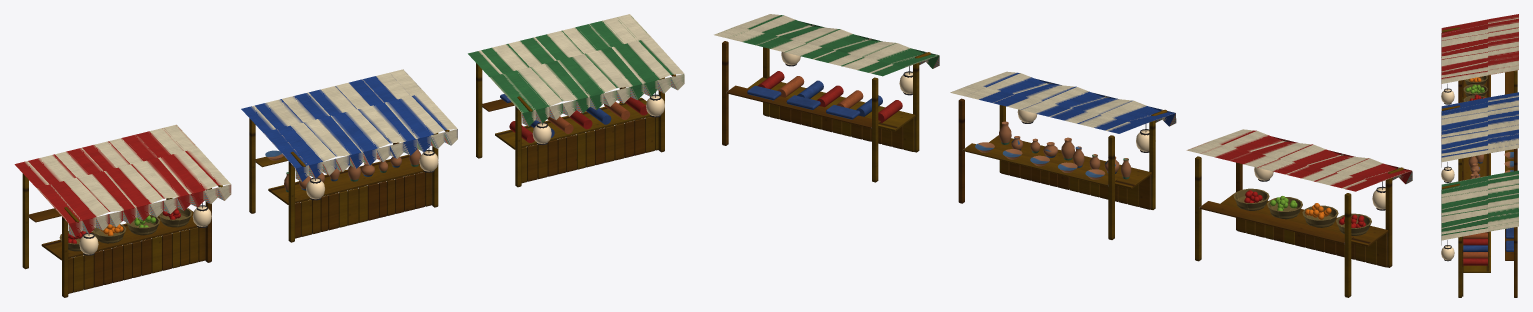
The model's file is BancarellaMercato.fbx.
3 renders of one model, left to right at view 1: azimuth 30°, elevation 25°; view 2: azimuth 150°, elevation 25°; view 3: azimuth 270°, elevation 25°, orthographic. The views are drawn at different scales.
Parts seen in each view (by area): view 1: Bancarella3_Tenda, Bancarella2_Tenda, Bancarella1_Tenda, Bancarella2_Legno, Bancarella3_Legno, Bancarella1_Legno, Bancarella1_Ceste, Bancarella3_TelaRossa, Bancarella3_Lanterne, Bancarella1_Lanterne, Bancarella2_Lanterne, Bancarella2_Ceramica (+2 smaller); view 2: Bancarella1_Legno, Bancarella2_Legno, Bancarella3_Legno, Bancarella1_Tenda, Bancarella3_Tenda, Bancarella2_Tenda, Bancarella1_Ceste, Bancarella2_Ceramica, Bancarella3_TelaBlu, Bancarella2_CeramicaVerde, Bancarella3_TelaRossa, Bancarella3_VelaGiunca (+1 smaller); view 3: Bancarella2_Tenda, Bancarella1_Tenda, Bancarella3_Tenda, Bancarella3_Legno, Bancarella2_Legno, Bancarella1_Legno, Bancarella3_TelaRossa, Bancarella3_TelaBlu, Bancarella1_Ceste, Bancarella3_VelaGiunca, Bancarella2_Ceramica, Bancarella2_Lanterne (+4 smaller).
Part boxes in pixels (x1,y1,x2,y2): Bancarella3_Tenda: [468, 14, 684, 126]; Bancarella2_Tenda: [241, 69, 457, 181]; Bancarella1_Tenda: [14, 124, 231, 237]; Bancarella2_Legno: [249, 118, 449, 242]; Bancarella3_Legno: [476, 63, 675, 187]; Bancarella1_Legno: [22, 173, 222, 297]; Bancarella1_Ceste: [59, 207, 192, 251]; Bancarella3_TelaRossa: [509, 97, 647, 142]; Bancarella3_Lanterne: [532, 95, 664, 143]; Bancarella1_Lanterne: [79, 206, 211, 254]; Bancarella2_Lanterne: [306, 151, 438, 199]; Bancarella2_Ceramica: [265, 150, 401, 190]; Bancarella1_Legno: [1195, 156, 1403, 297]; Bancarella2_Legno: [958, 98, 1167, 239]; Bancarella3_Legno: [722, 41, 930, 182]; Bancarella1_Tenda: [1186, 129, 1412, 191]; Bancarella3_Tenda: [714, 14, 939, 76]; Bancarella2_Tenda: [950, 71, 1176, 133]; Bancarella1_Ceste: [1233, 188, 1371, 235]; Bancarella2_Ceramica: [975, 136, 1119, 179]; Bancarella3_TelaBlu: [747, 80, 882, 119]; Bancarella2_CeramicaVerde: [999, 121, 1131, 179]; Bancarella3_TelaRossa: [758, 71, 902, 122]; Bancarella3_VelaGiunca: [777, 76, 863, 108]; Bancarella2_Tenda: [1441, 92, 1518, 167]; Bancarella1_Tenda: [1441, 14, 1518, 88]; Bancarella3_Tenda: [1441, 170, 1518, 245]; Bancarella3_Legno: [1441, 183, 1517, 297]; Bancarella2_Legno: [1441, 105, 1517, 181]; Bancarella1_Legno: [1441, 27, 1517, 102]; Bancarella3_TelaRossa: [1463, 238, 1487, 265]; Bancarella3_TelaBlu: [1463, 227, 1513, 251]; Bancarella1_Ceste: [1463, 75, 1487, 101]; Bancarella3_VelaGiunca: [1463, 232, 1487, 258]; Bancarella2_Ceramica: [1470, 149, 1513, 177]; Bancarella2_Lanterne: [1441, 135, 1454, 181].
Size of the model in its own units: 1630 by 265 by 252.
